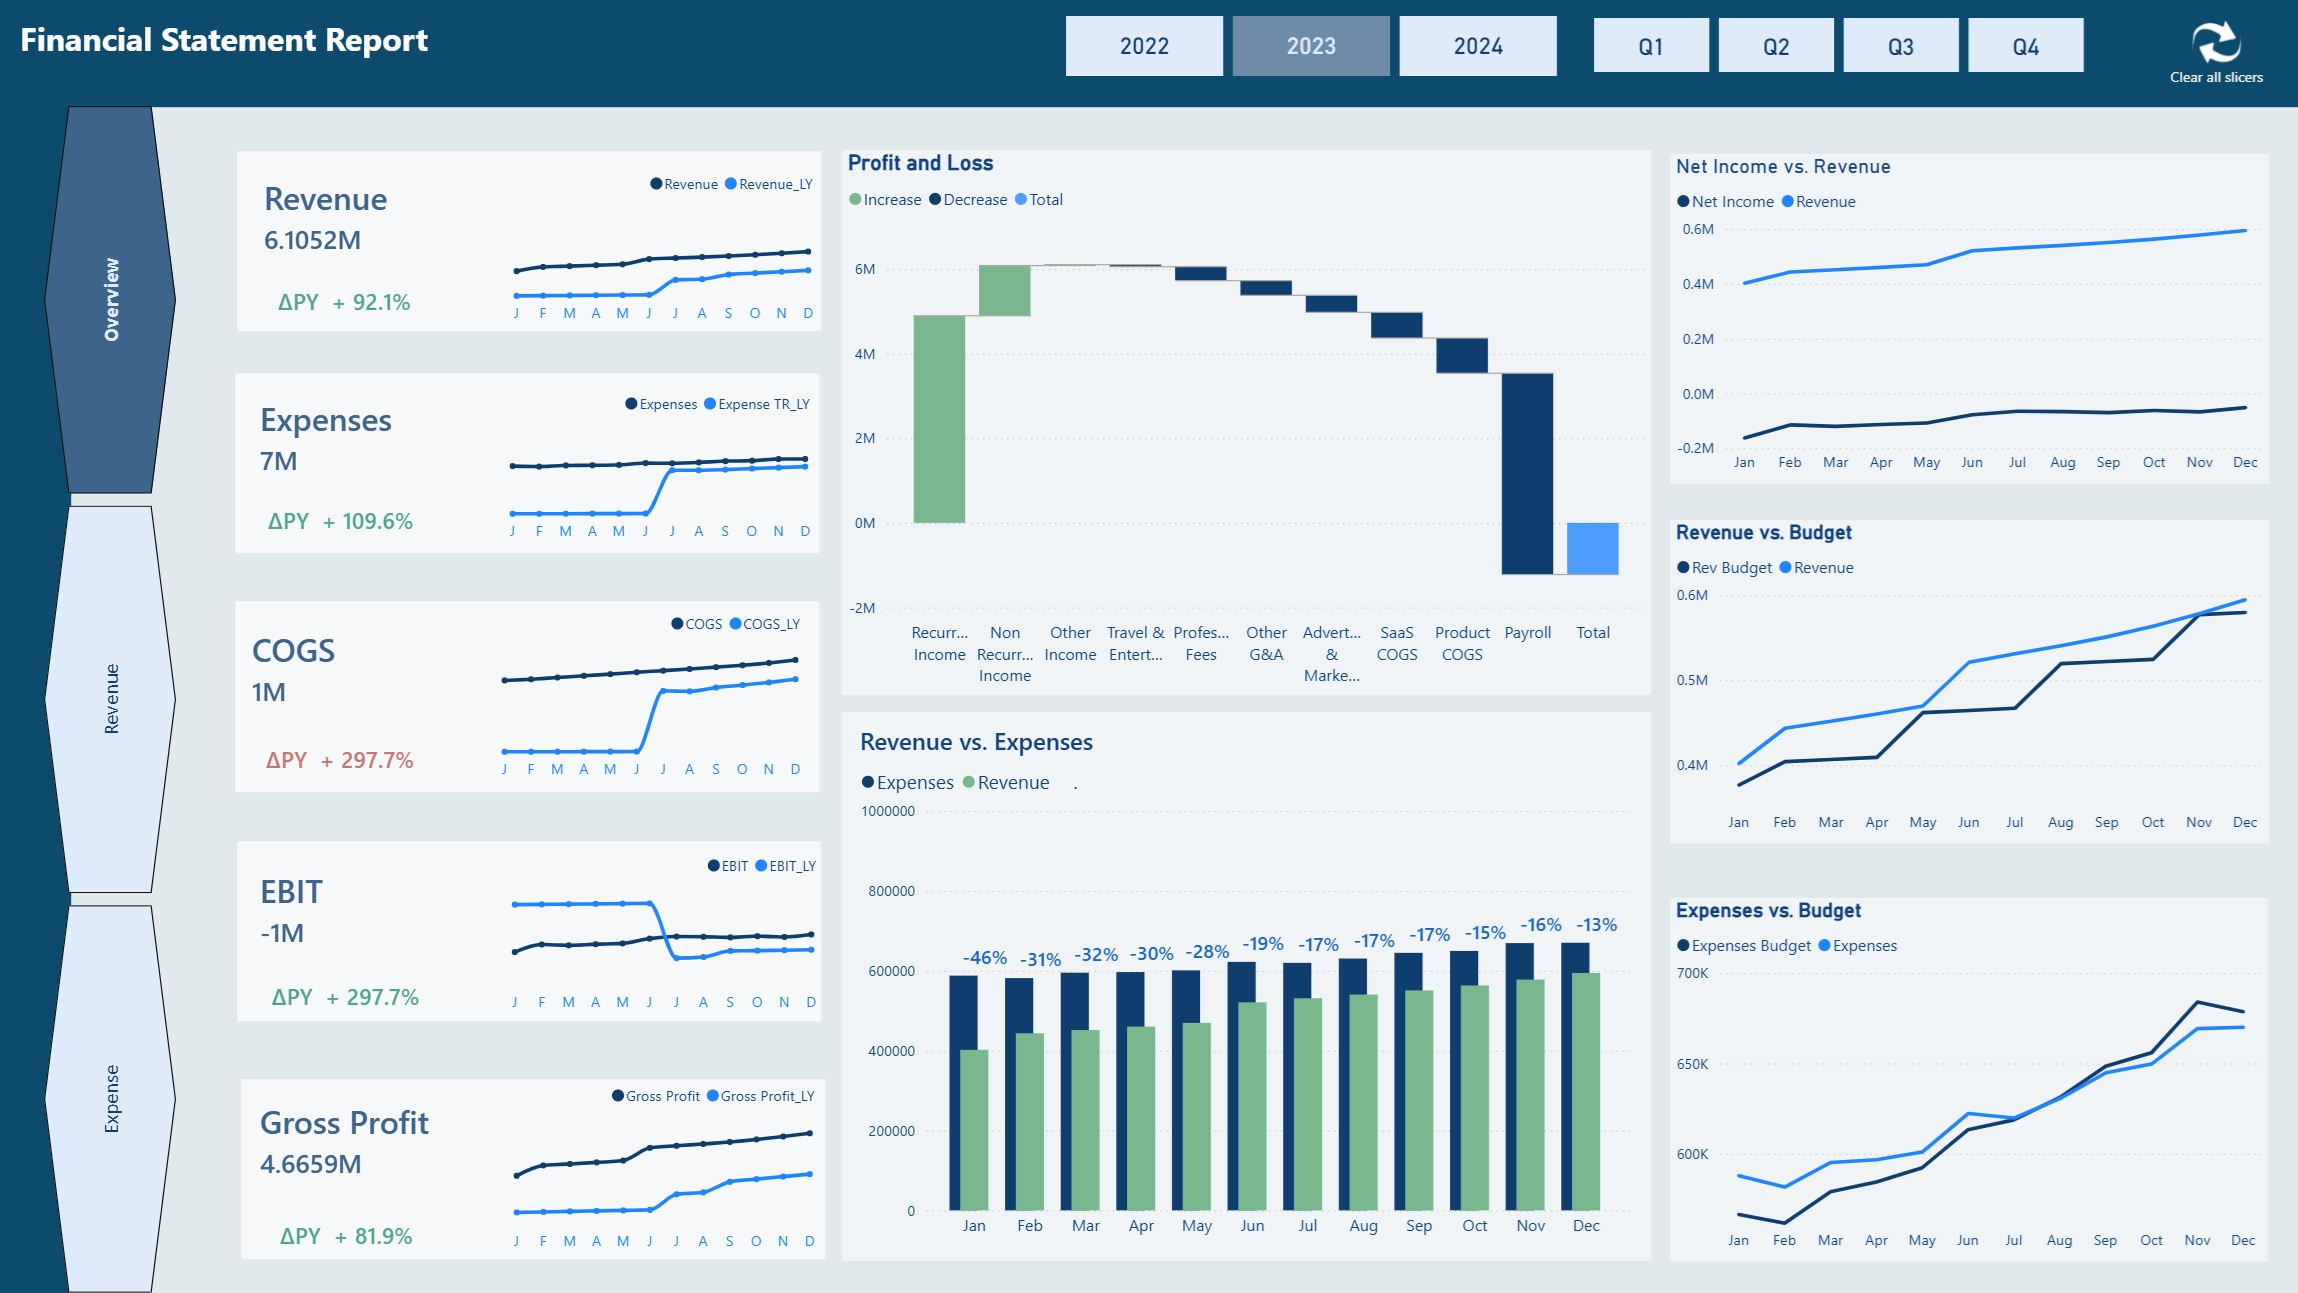

The dashboard page shown, as its layout file describes it:
{"tool":"powerbi","page":{"name":"Overview","canvas":[1920,1080],"ordinal":0},"visuals":[{"type":"cardVisual","title":"Revenue","fields":{"Data":["Measure.Revenue"]},"box":[205.3,126.7,223.8,113.4],"z":0,"group":"g1"},{"type":"cardVisual","title":"Revenue","fields":{"Data":["Measure.Expenses"]},"box":[203.5,311.3,224.5,112.1],"z":0,"group":"g5"},{"type":"cardVisual","title":"Revenue","fields":{"Data":["Measure.COGS"]},"box":[197.2,501.3,223.8,117.5],"z":0,"group":"g2"},{"type":"card","fields":{"Values":["Measure.EBIT YoY% Dynamic"]},"box":[200.9,815.9,176.3,38.2],"z":0,"group":"g4"},{"type":"cardVisual","title":"Revenue","fields":{"Data":["Measure.Gross Profit"]},"box":[202.7,895.8,226,117.1],"z":0,"group":"g3"},{"type":"shape","box":[200.9,899.4,488.6,152],"z":0},{"type":"lineChart","fields":{"Category":["Calendar.Month Initial"],"Y":["Measure.Revenue","Measure.Revenue_LY"]},"box":[416.8,134.3,270.7,145.8],"z":1000,"group":"g1"},{"type":"lineChart","fields":{"Category":["Calendar.Month Initial"],"Y":["Measure.Expenses","Measure.Expense TR_LY"]},"box":[415.7,318.8,271.5,144.1],"z":1000,"group":"g5"},{"type":"lineChart","fields":{"Category":["Calendar.Month Initial"],"Y":["Measure.COGS","Measure.COGS_LY"]},"box":[409.4,501.9,270,159],"z":1000,"group":"g2"},{"type":"shape","box":[199.1,702.1,488.6,152],"z":1000},{"type":"lineChart","fields":{"Category":["Calendar.Month Initial"],"Y":["Measure.EBIT","Measure.EBIT_LY"]},"box":[415.4,703.9,275.1,151.8],"z":1000,"group":"g4"},{"type":"card","fields":{"Values":["Measure.GP YoY% Dynamic"]},"box":[202.7,1013.7,174.3,40],"z":1000,"group":"g3"},{"type":"card","fields":{"Values":["Measure.Total revenue YoY% Dynamic"]},"box":[200.9,234.3,174.3,38.6],"z":2000,"group":"g1"},{"type":"card","fields":{"Values":["Measure.Expense YoY% Dynamic"]},"box":[199.1,417.6,174.8,38.2],"z":2000,"group":"g5"},{"type":"shape","box":[197.2,501.3,488.6,161.1],"z":2000},{"type":"card","fields":{"Values":["Measure.Total COGS YoY% Dynamic"]},"box":[198.1,616.8,173.6,40],"z":2000,"group":"g2"},{"type":"cardVisual","title":"Revenue","fields":{"Data":["Measure.EBIT"]},"box":[202.6,705,229.2,111.4],"z":2000,"group":"g4"},{"type":"lineChart","fields":{"Category":["Calendar.Month Initial"],"Y":["Measure.Gross Profit","Measure.Gross Profit_LY"]},"box":[417.8,896.3,272,159],"z":2000,"group":"g3"},{"type":"shape","box":[197.2,311.3,488.6,152],"z":3000},{"type":"shape","box":[199.1,126.7,488.6,152],"z":4000},{"type":"shape","box":[60.3,89.7,1867.2,996.6],"z":5000},{"type":"pageNavigator","box":[38,90.5,110.4,991.7],"z":6000},{"type":"clusteredColumnChart","title":"Revenue vs. Expenses","fields":{"Category":["Calendar.Month Short"],"Y":["Measure.Expenses Transaction","Measure.Revenue","Measure.R/E Max"]},"box":[703.8,595.1,674.6,457.3],"z":7000},{"type":"advancedSlicerVisual","fields":{"Values":["Calendar.Quarter"]},"box":[1324.4,12.2,420,55.7],"z":8000},{"type":"advancedSlicerVisual","fields":{"Values":["Calendar.Year"]},"box":[885.2,9.6,420.1,60.5],"z":9000},{"type":"waterfallChart","title":"Profit and Loss","fields":{"Category":["Accounts.LEVEL_02"],"Y":["Measure.Financial Values"]},"box":[703.8,126.5,674.6,454.1],"z":10000},{"type":"group","id":"g1","title":"Revenue","box":[200.9,126.7,486.8,152],"z":11000},{"type":"group","id":"g2","title":"COGS","box":[197.2,501.3,483.2,159.2],"z":12000},{"type":"group","id":"g3","title":"GP 1","box":[202.7,895.8,486.8,159.2],"z":13000},{"type":"group","id":"g4","title":"EBT","box":[200.9,703.9,490.4,152],"z":14000},{"type":"lineChart","title":"Net Income vs. Revenue","fields":{"Category":["Calendar.Month Short"],"Y":["Measure.Net Income","Measure.Revenue"]},"box":[1393.4,130.3,499.5,275.1],"z":15000},{"type":"lineChart","title":"Expenses vs. Budget","fields":{"Category":["Calendar.Month Short"],"Y":["Measure.Budget Expenses","Measure.Expenses Transaction"]},"box":[1393,749.2,497.8,303.2],"z":16000},{"type":"lineChart","title":"Revenue vs. Budget","fields":{"Category":["Calendar.Month Short"],"Y":["Measure.Rev Budget","Measure.Revenue"]},"box":[1393.4,434.3,499.5,269.6],"z":17000},{"type":"group","id":"g5","title":"Revenue","box":[199.1,311.3,486.8,152],"z":18000},{"type":"actionButton","box":[1803.3,1.7,88.3,88.3],"z":19000},{"type":"textbox","box":[13,9.7,468.6,63.2],"z":20000}]}

Visuals, with their boxes in screenshot pixels (x1, y1, x2, y2), scaled from the page's 1920x1080 canvas onto the 2298x1293 screenshot:
"Revenue" cardVisual: BBox(246, 152, 514, 287)
"Revenue" cardVisual: BBox(244, 373, 512, 507)
"Revenue" cardVisual: BBox(236, 600, 504, 741)
card - Measure.EBIT YoY% Dynamic: BBox(240, 977, 451, 1023)
"Revenue" cardVisual: BBox(243, 1072, 513, 1213)
shape: BBox(240, 1077, 825, 1259)
lineChart - Calendar.Month Initial x Measure.Revenue: BBox(499, 161, 823, 335)
lineChart - Calendar.Month Initial x Measure.Expenses: BBox(498, 382, 822, 554)
lineChart - Calendar.Month Initial x Measure.COGS: BBox(490, 601, 813, 791)
shape: BBox(238, 841, 823, 1023)
lineChart - Calendar.Month Initial x Measure.EBIT: BBox(497, 843, 826, 1024)
card - Measure.GP YoY% Dynamic: BBox(243, 1214, 451, 1262)
card - Measure.Total revenue YoY% Dynamic: BBox(240, 281, 449, 327)
card - Measure.Expense YoY% Dynamic: BBox(238, 500, 448, 546)
shape: BBox(236, 600, 821, 793)
card - Measure.Total COGS YoY% Dynamic: BBox(237, 738, 445, 786)
"Revenue" cardVisual: BBox(242, 844, 517, 977)
lineChart - Calendar.Month Initial x Measure.Gross Profit: BBox(500, 1073, 826, 1263)
shape: BBox(236, 373, 821, 555)
shape: BBox(238, 152, 823, 334)
shape: BBox(72, 107, 2297, 1292)
pageNavigator: BBox(45, 108, 178, 1292)
"Revenue vs. Expenses" clusteredColumnChart: BBox(842, 712, 1650, 1260)
advancedSlicerVisual - Calendar.Quarter: BBox(1585, 15, 2088, 81)
advancedSlicerVisual - Calendar.Year: BBox(1059, 11, 1562, 84)
"Profit and Loss" waterfallChart: BBox(842, 151, 1650, 695)
"Revenue" group: BBox(240, 152, 823, 334)
"COGS" group: BBox(236, 600, 814, 791)
"GP 1" group: BBox(243, 1072, 825, 1263)
"EBT" group: BBox(240, 843, 827, 1025)
"Net Income vs. Revenue" lineChart: BBox(1668, 156, 2266, 485)
"Expenses vs. Budget" lineChart: BBox(1667, 897, 2263, 1260)
"Revenue vs. Budget" lineChart: BBox(1668, 520, 2266, 843)
"Revenue" group: BBox(238, 373, 821, 555)
actionButton: BBox(2158, 2, 2264, 108)
textbox: BBox(16, 12, 576, 87)
